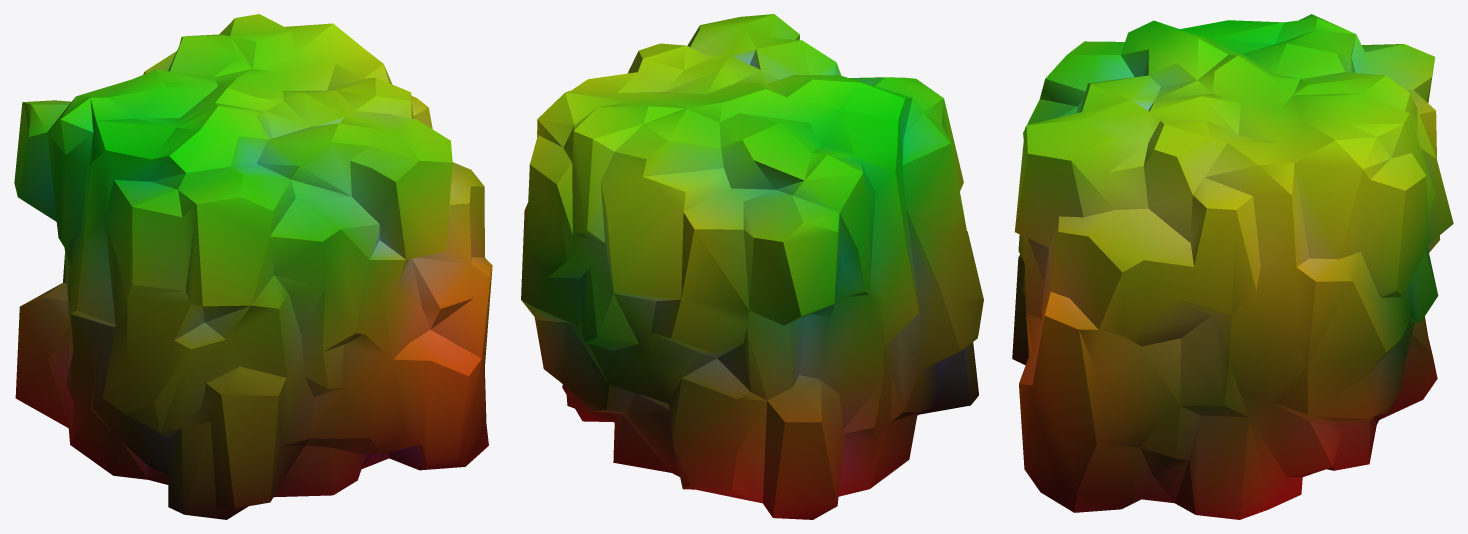
Rendered from MS_RockBig_02.fbx.
3 views of the same model, side by side, from view 1: azimuth 30°, elevation 25°; view 2: azimuth 150°, elevation 25°; view 3: azimuth 270°, elevation 25° (orthographic). The views are drawn at different scales.
Parts seen in each view (by area): view 1: RockBig_02; view 2: RockBig_02; view 3: RockBig_02.
Part boxes in pixels (<box>): RockBig_02: <box>14,14,492,519</box>; RockBig_02: <box>521,14,983,519</box>; RockBig_02: <box>1012,14,1453,519</box>.
Size of the model in its own units: 9120 by 8437 by 9178.
